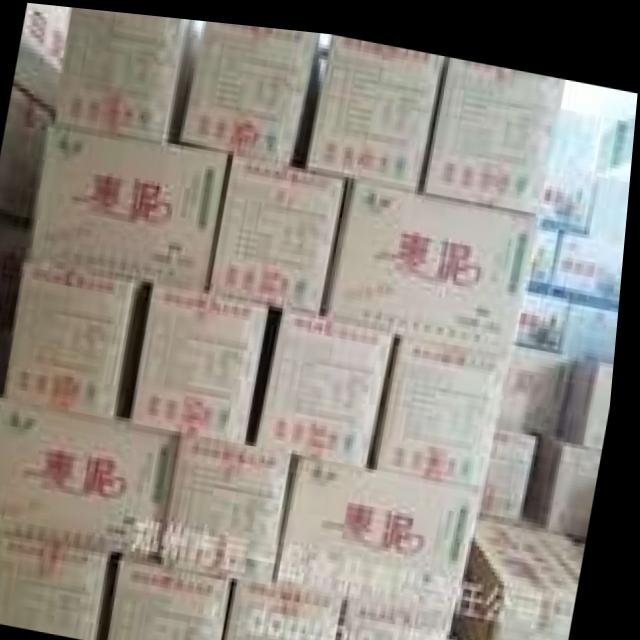box: (332, 173, 541, 344), (35, 122, 230, 284), (283, 451, 486, 605), (0, 396, 187, 554), (138, 279, 272, 442), (263, 301, 401, 459), (426, 46, 563, 205), (214, 146, 348, 307), (9, 257, 145, 413), (310, 27, 441, 181), (385, 325, 513, 482), (168, 430, 299, 578), (181, 17, 320, 156), (56, 6, 191, 138), (462, 512, 591, 640), (0, 535, 119, 639), (118, 553, 240, 640), (557, 162, 632, 294), (237, 572, 352, 640), (533, 421, 609, 523), (541, 92, 605, 213), (0, 82, 55, 217), (504, 337, 580, 420), (348, 588, 463, 640), (490, 417, 543, 508), (565, 347, 619, 431), (520, 279, 573, 341), (567, 290, 623, 347), (535, 213, 564, 278)
